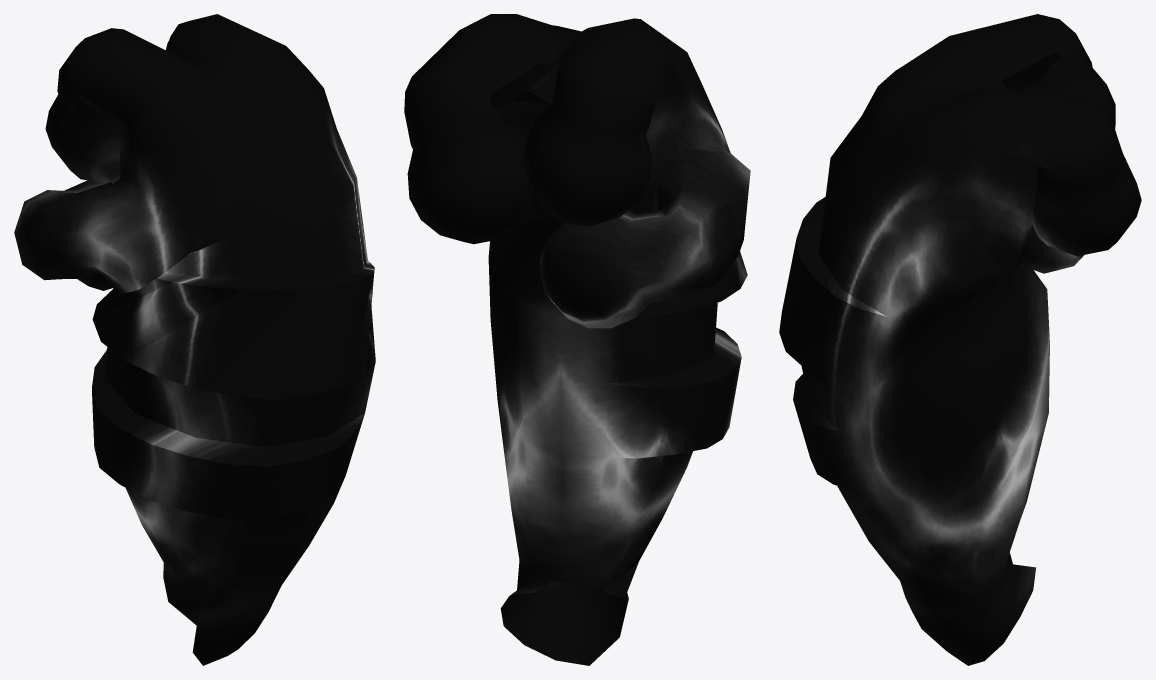
File: 0402_quantou.glb
3 views of the same model, side by side, from view 1: azimuth 30°, elevation 25°; view 2: azimuth 150°, elevation 25°; view 3: azimuth 270°, elevation 25° (orthographic). The views are drawn at different scales.
Size of the model in its own units: 1.09 by 2.2 by 1.19.
Materials: 1 (1 with a texture image).
